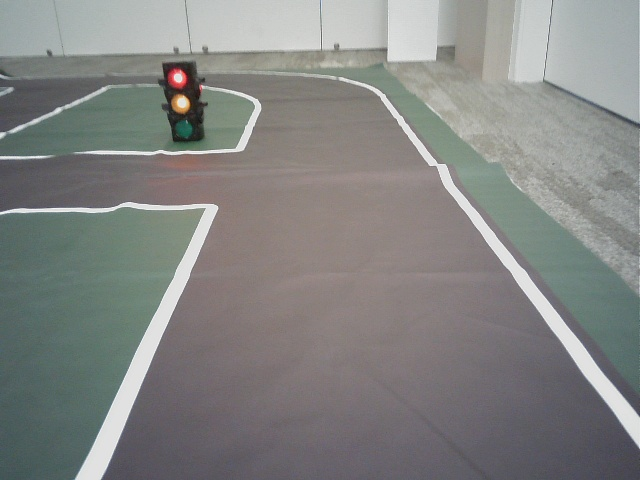red: (165, 64, 196, 139)
